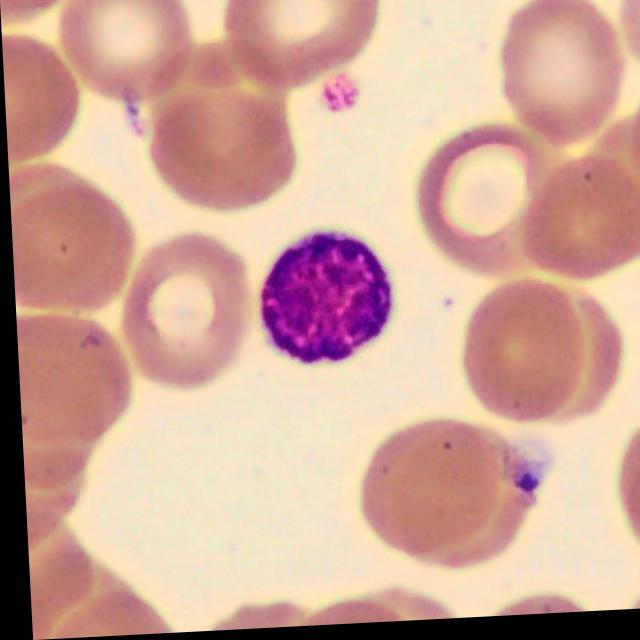Linfocito: (259, 237, 388, 367)
